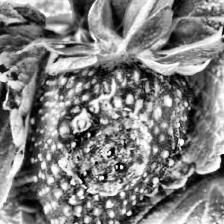Anthracnose Fruit Rot: (59, 104, 156, 196)
